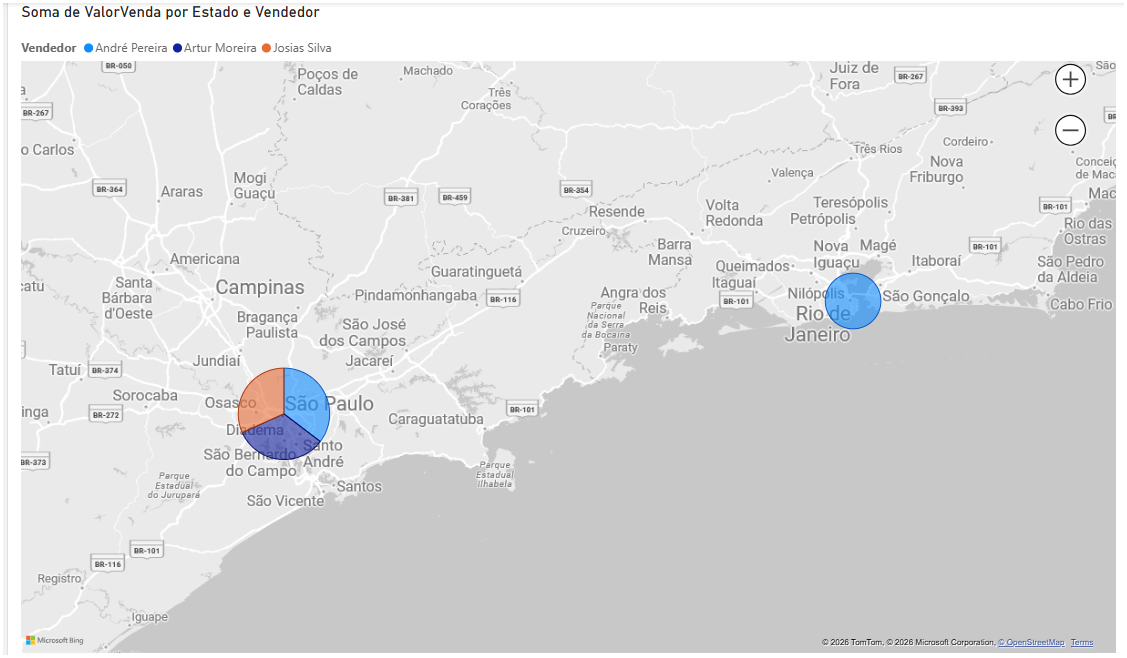

What the dashboard file says about the page in this screenshot:
{"tool":"powerbi","page":{"name":"Performance de vendedores por região","canvas":[1280,720],"ordinal":4},"visuals":[{"type":"map","fields":{"Series":["Vendas.Vendedor"],"Category":["Vendas.Estado"],"Size":["Sum(Vendas.ValorVenda)"]},"box":[9.8,0,1211.8,720.2],"z":0}]}

Visuals, with their boxes on the page's 1280x720 design canvas (x1, y1, x2, y2). These are canvas units, not pixel positions in the 1127x658 screenshot, which may show the page scaled, cropped or inside an application window:
map - Vendas.Vendedor x Vendas.Estado: <box>10,0,1222,720</box>
